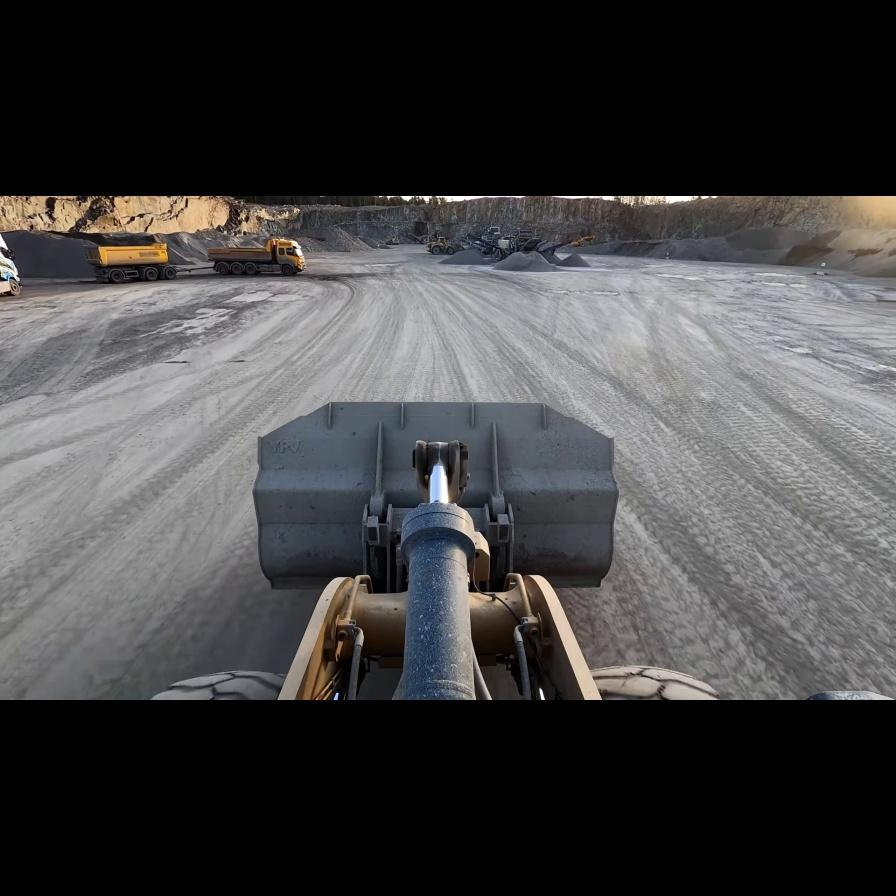anchor: (412, 441, 469, 504)
pile of gravel: (718, 226, 824, 262), (814, 226, 894, 273), (492, 251, 555, 273), (436, 247, 496, 266), (556, 252, 591, 267)
